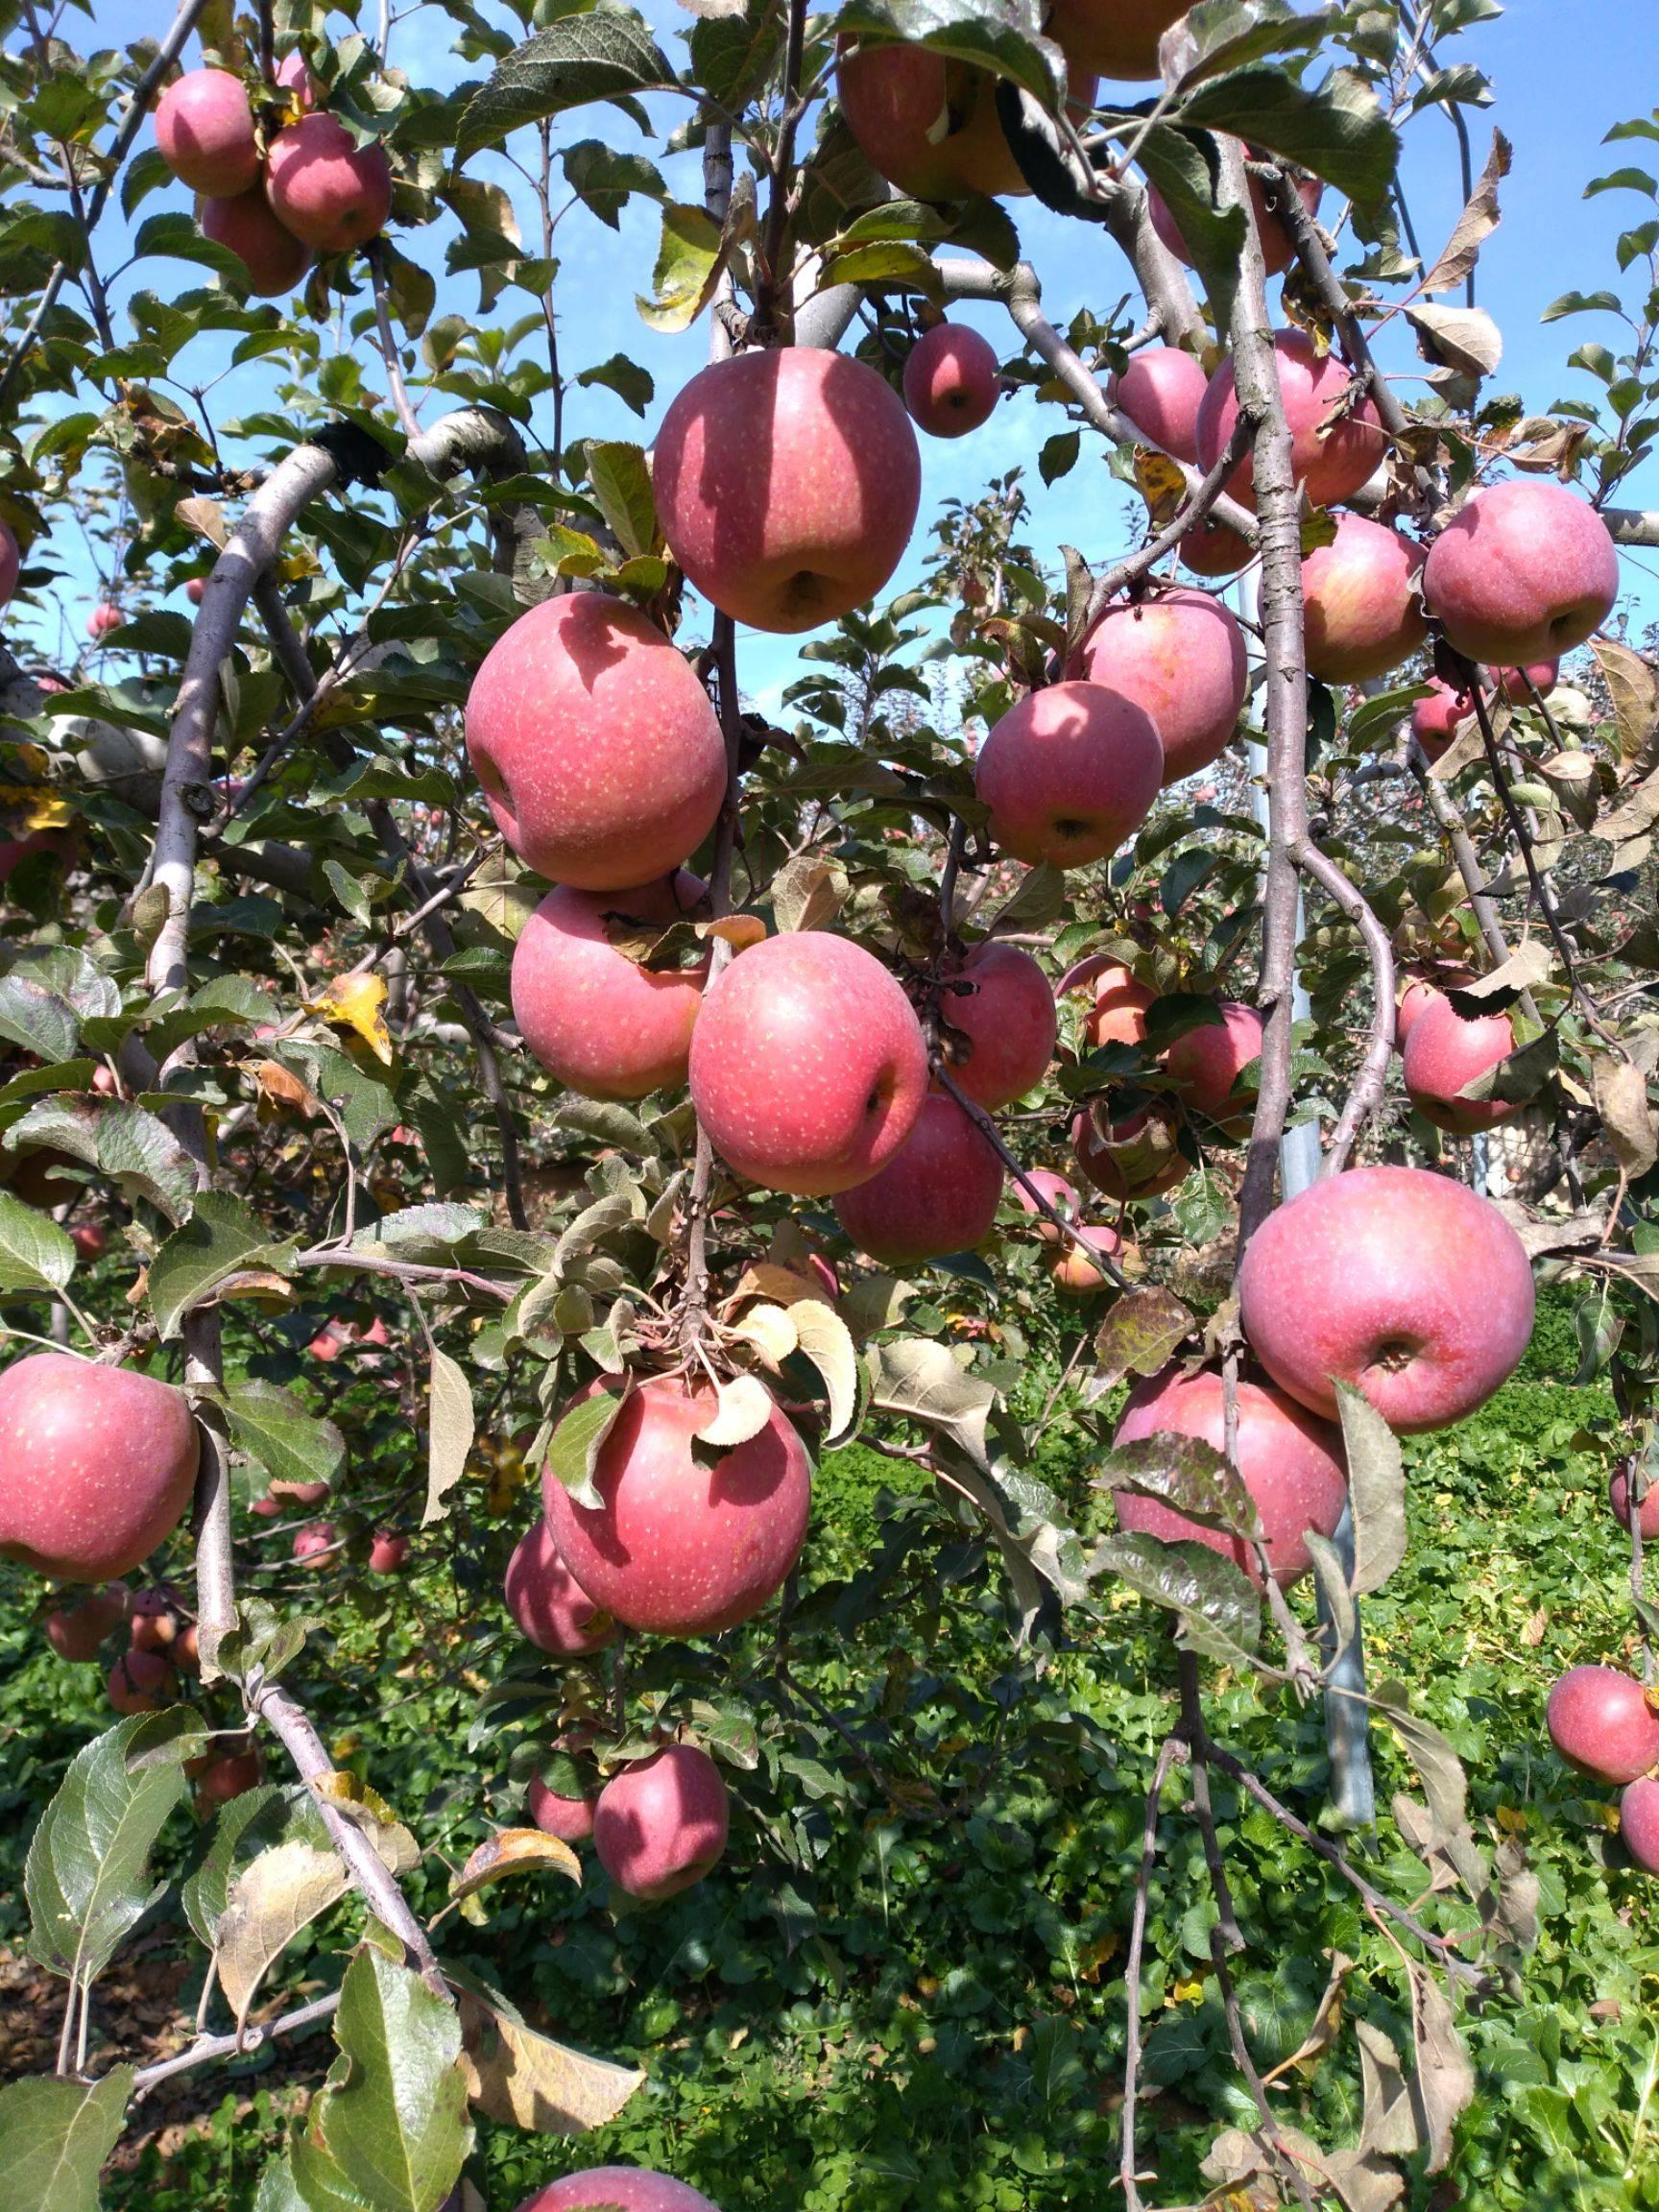apple: (643, 333, 934, 643), (685, 941, 969, 1254), (504, 1360, 816, 1635), (1232, 1163, 1535, 1442), (458, 585, 730, 885), (974, 594, 1243, 864), (139, 68, 401, 294), (505, 888, 748, 1094), (0, 1352, 195, 1580), (833, 33, 1068, 218), (1173, 510, 1419, 681), (1066, 589, 1246, 786), (974, 679, 1161, 867), (1420, 481, 1614, 662), (829, 1066, 1002, 1263), (155, 64, 289, 253), (247, 108, 389, 256), (594, 1742, 725, 1900), (1305, 510, 1420, 679), (1063, 1083, 1195, 1212), (1391, 984, 1527, 1108), (1155, 1001, 1269, 1120), (153, 68, 261, 186), (99, 1585, 195, 1716), (899, 322, 1002, 439)
